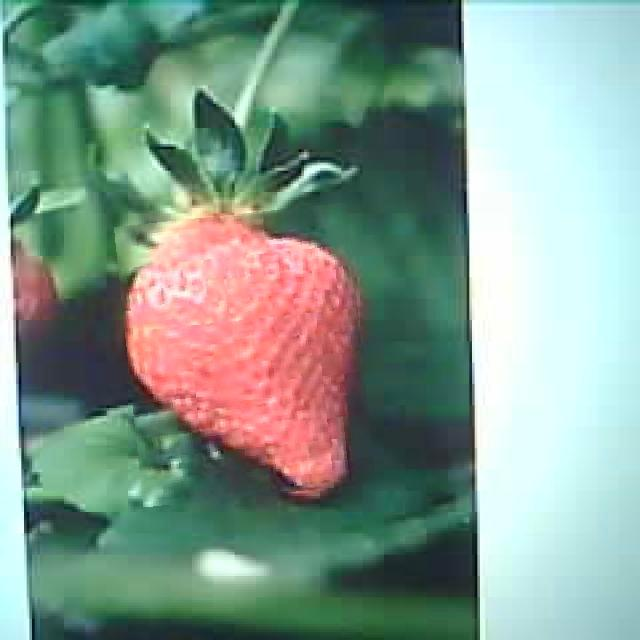strawberry: (121, 209, 369, 501)
